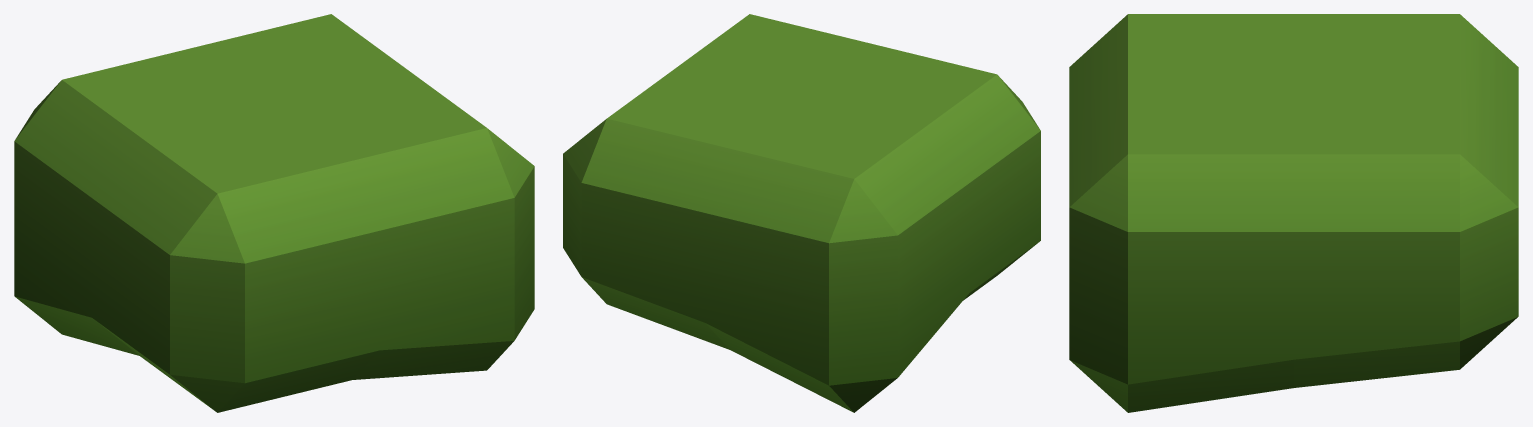
Rendered from m_deco_floorGrass_mini.FBX.
3 renders of one model, left to right at view 1: azimuth 30°, elevation 25°; view 2: azimuth 150°, elevation 25°; view 3: azimuth 270°, elevation 25°, orthographic. The views are drawn at different scales.
Visible parts, largest first — view 1: m_deco_floorGrass_mini; view 2: m_deco_floorGrass_mini; view 3: m_deco_floorGrass_mini.
Boxes of the visible parts, bbox=[...] form: m_deco_floorGrass_mini: bbox=[14, 14, 534, 412]; m_deco_floorGrass_mini: bbox=[563, 14, 1040, 412]; m_deco_floorGrass_mini: bbox=[1069, 14, 1518, 412].
Bounding box in the file's own units: 1.18 × 0.7842 × 1.18.
